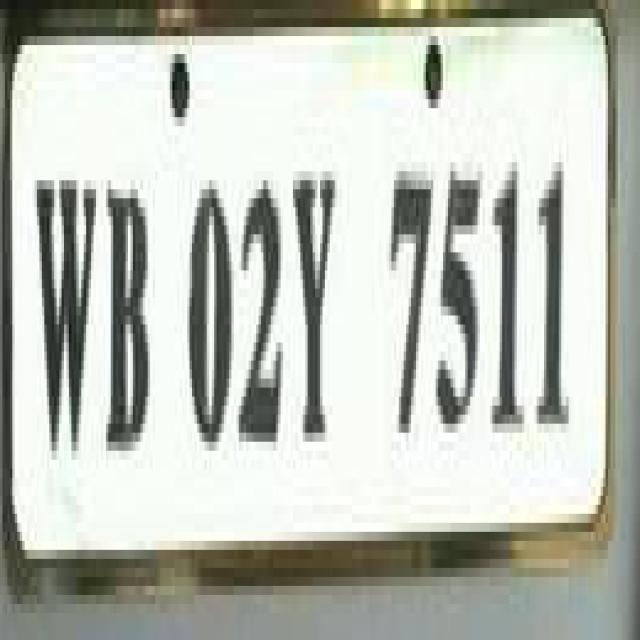license_plate: (0, 0, 618, 595)
